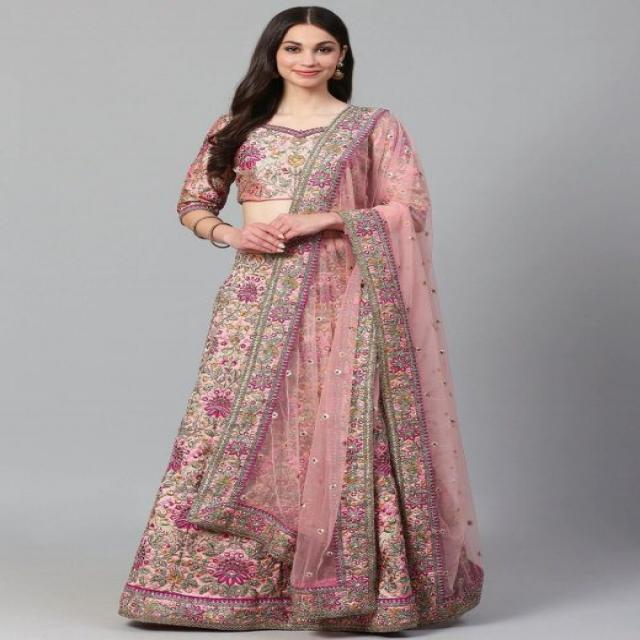female-dress: (164, 103, 478, 638)
